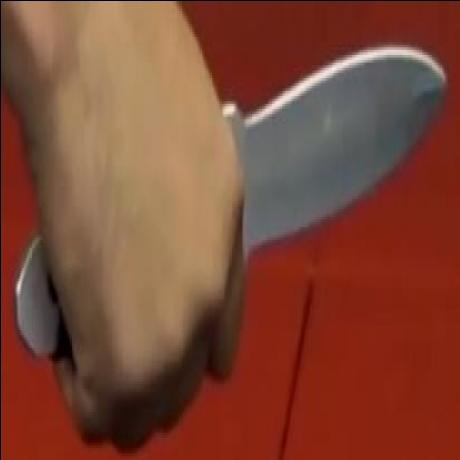weapon: (230, 46, 451, 237)
